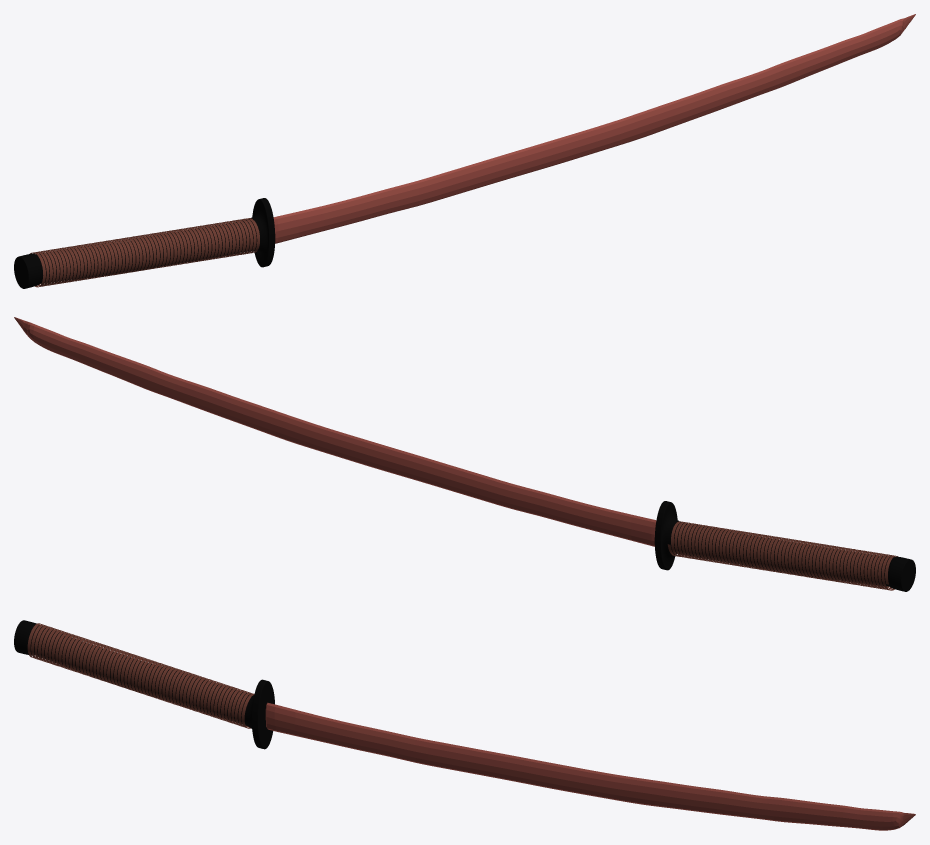
Rendered from piroskatana.fbx.
3 views of the same model, one above another, from view 1: azimuth 30°, elevation 25°; view 2: azimuth 150°, elevation 25°; view 3: azimuth 330°, elevation 25° (orthographic).
Parts seen in each view (by area): view 1: Cube.001, Plane.002, Cylinder; view 2: Cube.001, Plane.002, Cylinder; view 3: Cube.001, Plane.002, Cylinder.
Boxes of the visible parts, x1=… form: Cube.001: x1=273, y1=14, x2=915, y2=243; Plane.002: x1=30, y1=218, x2=259, y2=287; Cylinder: x1=14, y1=198, x2=275, y2=288; Cube.001: x1=14, y1=317, x2=656, y2=546; Plane.002: x1=667, y1=521, x2=897, y2=590; Cylinder: x1=654, y1=501, x2=915, y2=591; Cube.001: x1=265, y1=702, x2=915, y2=830; Plane.002: x1=27, y1=623, x2=254, y2=728; Cylinder: x1=14, y1=620, x2=274, y2=749.
Size of the model in its own units: 416 by 41.35 by 13.96.
